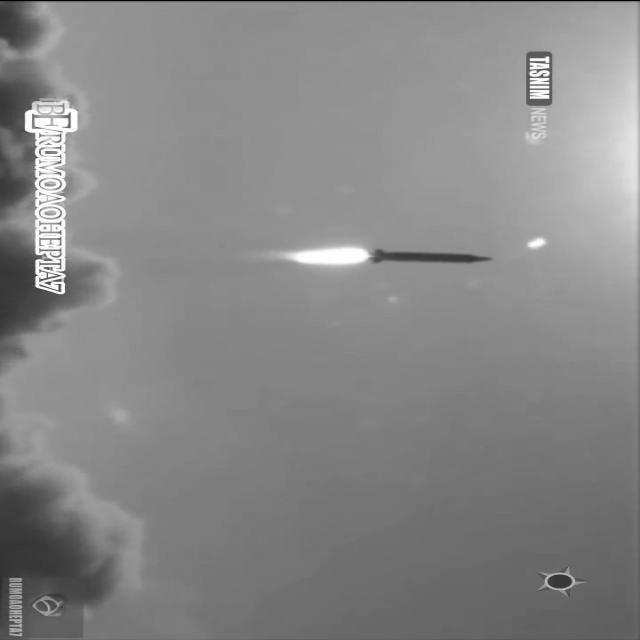missile: (347, 245, 505, 268)
